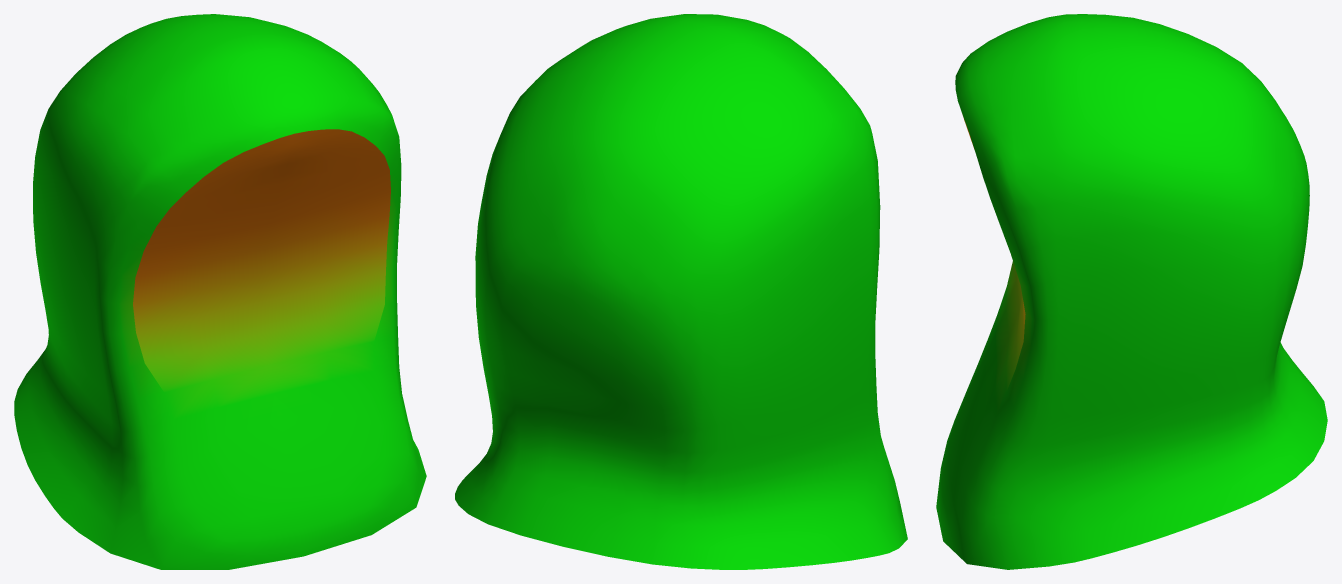
Rendered from Cap1_132.glb.
The picture shows the model from 3 angles, left to right: view 1: azimuth 30°, elevation 25°; view 2: azimuth 150°, elevation 25°; view 3: azimuth 270°, elevation 25°; orthographic projection. The views are drawn at different scales.
Parts seen in each view (by area): view 1: OG.001; view 2: OG.001; view 3: OG.001.
Boxes of the visible parts, x1,y1,x2,y2 form: OG.001: [14, 14, 426, 569]; OG.001: [455, 14, 907, 569]; OG.001: [936, 14, 1327, 569].
Bounding box in the file's own units: 70.69 × 90.56 × 67.42.
